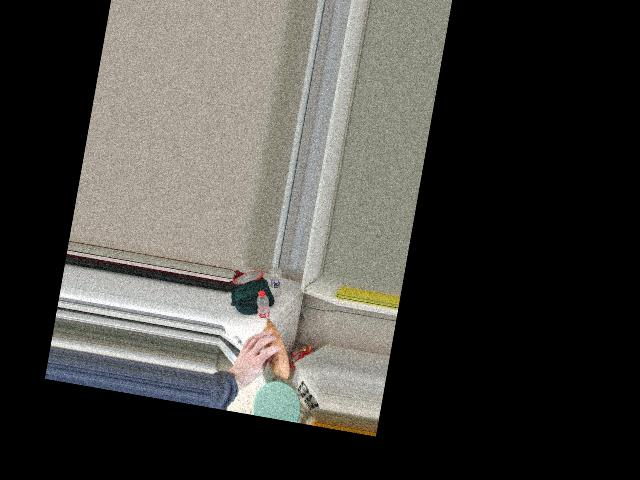sweet_potato: (248, 320, 295, 370)
